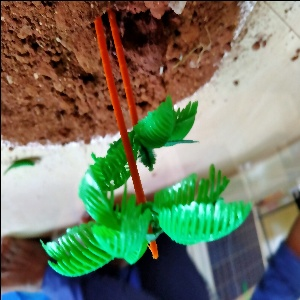plant: (35, 181, 246, 268), (74, 93, 206, 183)
